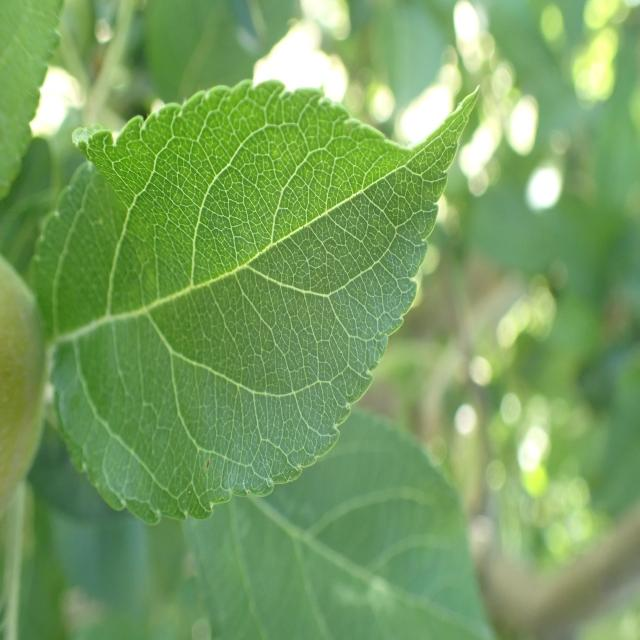healthy: (29, 78, 481, 526), (184, 407, 496, 639), (0, 0, 64, 198)
